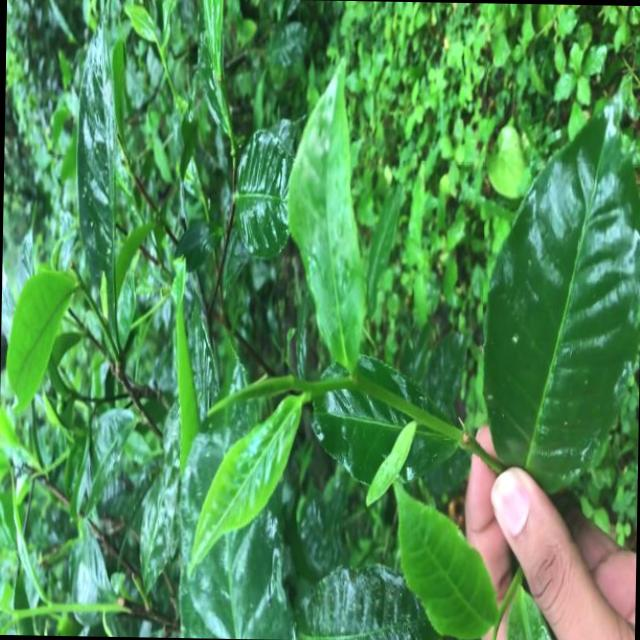Stem: (304, 383, 317, 393)
